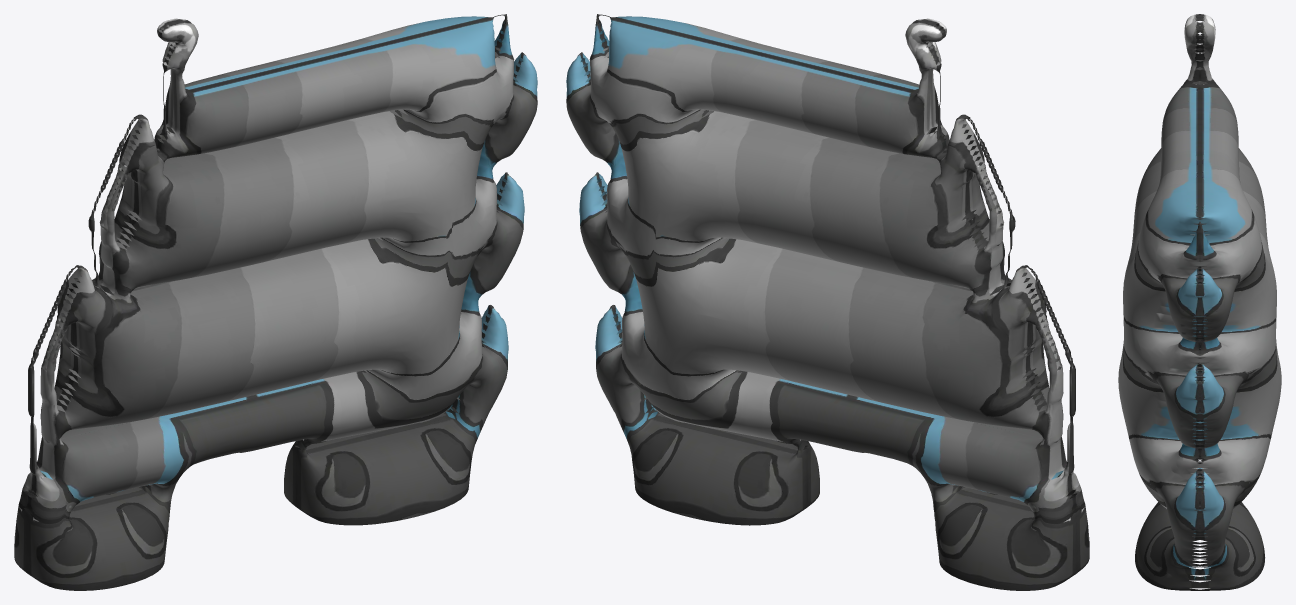
Rendered from steel_stair.glb.
The picture shows the model from 3 angles, left to right: view 1: azimuth 30°, elevation 25°; view 2: azimuth 150°, elevation 25°; view 3: azimuth 270°, elevation 25°; orthographic projection. The views are drawn at different scales.
Parts seen in each view (by area): view 1: steel_stair; view 2: steel_stair; view 3: steel_stair.
Boxes of the visible parts, x1=… form: steel_stair: x1=14, y1=14, x2=537, y2=590; steel_stair: x1=566, y1=14, x2=1089, y2=590; steel_stair: x1=1118, y1=14, x2=1281, y2=590.
Size of the model in its own units: 0.9887 by 0.9671 by 0.3147.
1 material, 1 textured.
